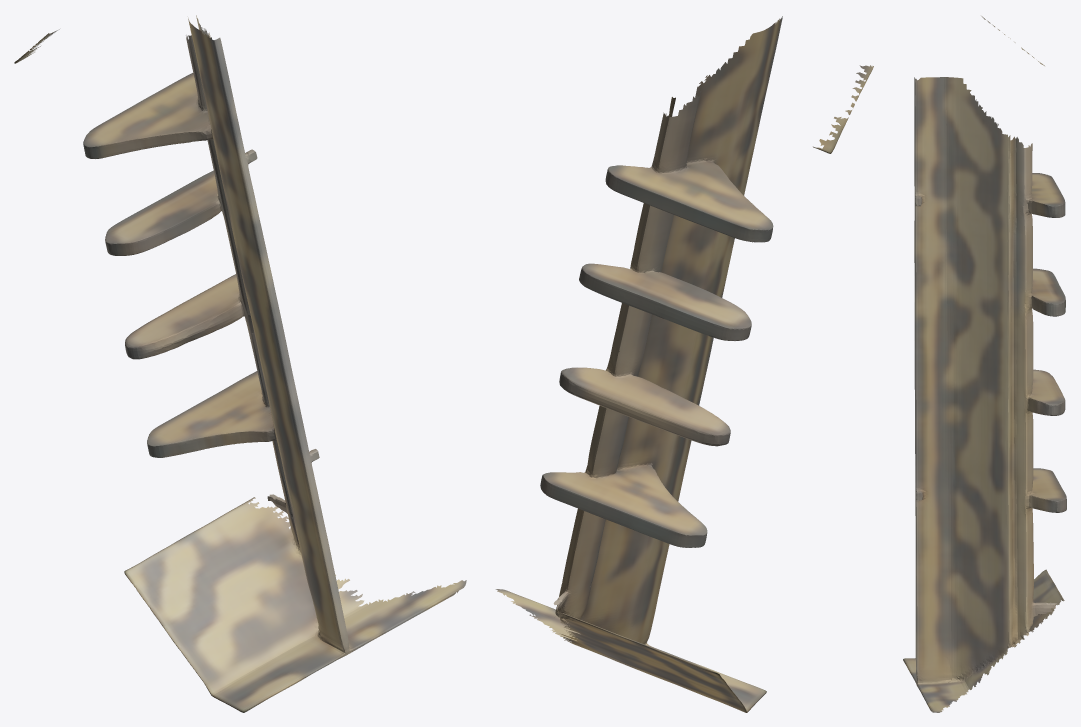
Rendered from entity-v-guard-center.glb.
The picture shows the model from 3 angles, left to right: view 1: azimuth 30°, elevation 25°; view 2: azimuth 150°, elevation 25°; view 3: azimuth 270°, elevation 25°; orthographic projection. The views are drawn at different scales.
Visible parts, largest first — view 1: geometry_0; view 2: geometry_0; view 3: geometry_0.
Boxes of the visible parts, <box> form: geometry_0: <box>14,15,466,712</box>; geometry_0: <box>495,16,873,712</box>; geometry_0: <box>903,16,1066,712</box>.
Size of the model in its own units: 1.61 by 2.67 by 0.6788.
